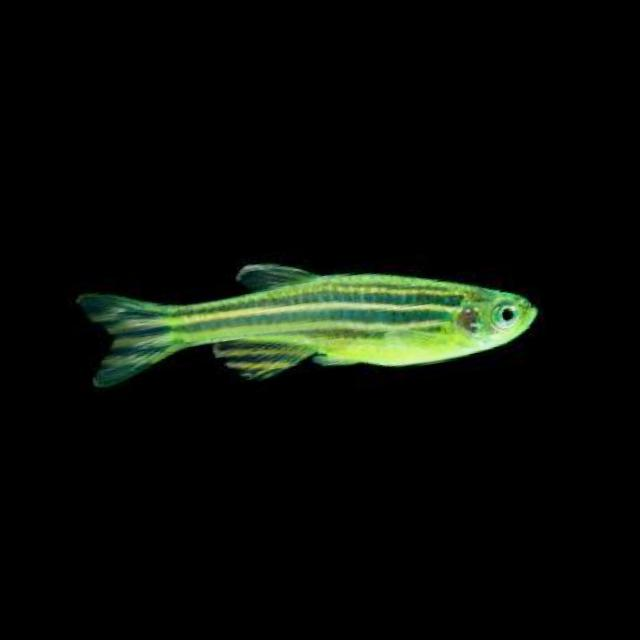ZebraFish: (72, 216, 548, 416)
